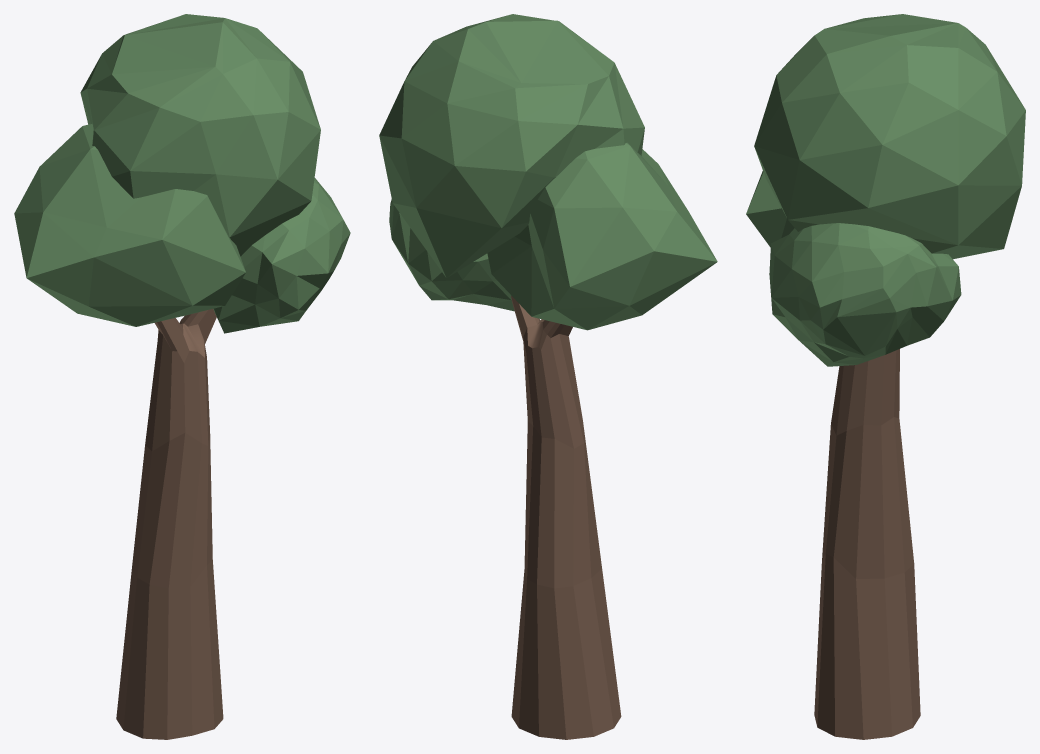
Rendered from SM_TestTree.fbx.
The picture shows the model from 3 angles, left to right: view 1: azimuth 30°, elevation 25°; view 2: azimuth 150°, elevation 25°; view 3: azimuth 270°, elevation 25°; orthographic projection. The views are drawn at different scales.
Visible parts, largest first — view 1: pPlatonic3, pCylinder1, pPlatonic1, pPlatonic2; view 2: pPlatonic3, pCylinder1, pPlatonic1, pPlatonic2; view 3: pPlatonic3, pCylinder1, pPlatonic2, pPlatonic1.
Part boxes in pixels (box(x1,y1,x2,y2)): pPlatonic3: box(80, 14, 320, 256); pCylinder1: box(116, 309, 223, 739); pPlatonic1: box(14, 123, 245, 326); pPlatonic2: box(213, 178, 350, 333); pPlatonic3: box(379, 14, 644, 277); pCylinder1: box(511, 296, 621, 739); pPlatonic1: box(487, 142, 717, 330); pPlatonic2: box(389, 199, 514, 311); pPlatonic3: box(754, 14, 1025, 259); pCylinder1: box(814, 349, 920, 739); pPlatonic2: box(769, 223, 961, 366); pPlatonic1: box(746, 171, 794, 247).
Size of the model in its own units: 6.55 by 13.7 by 4.87.
